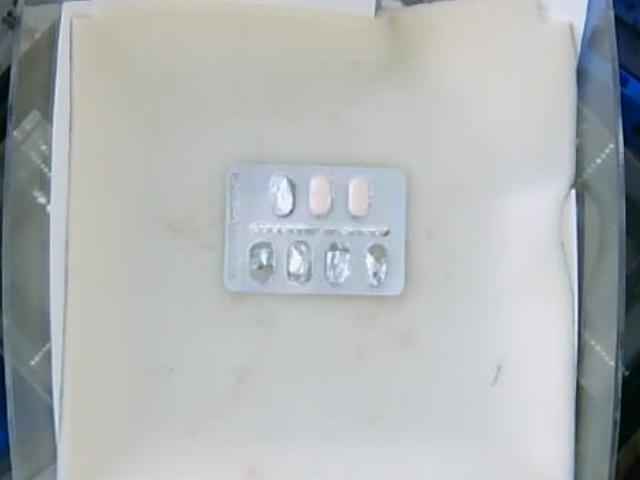Medicine: (223, 163, 409, 293)
